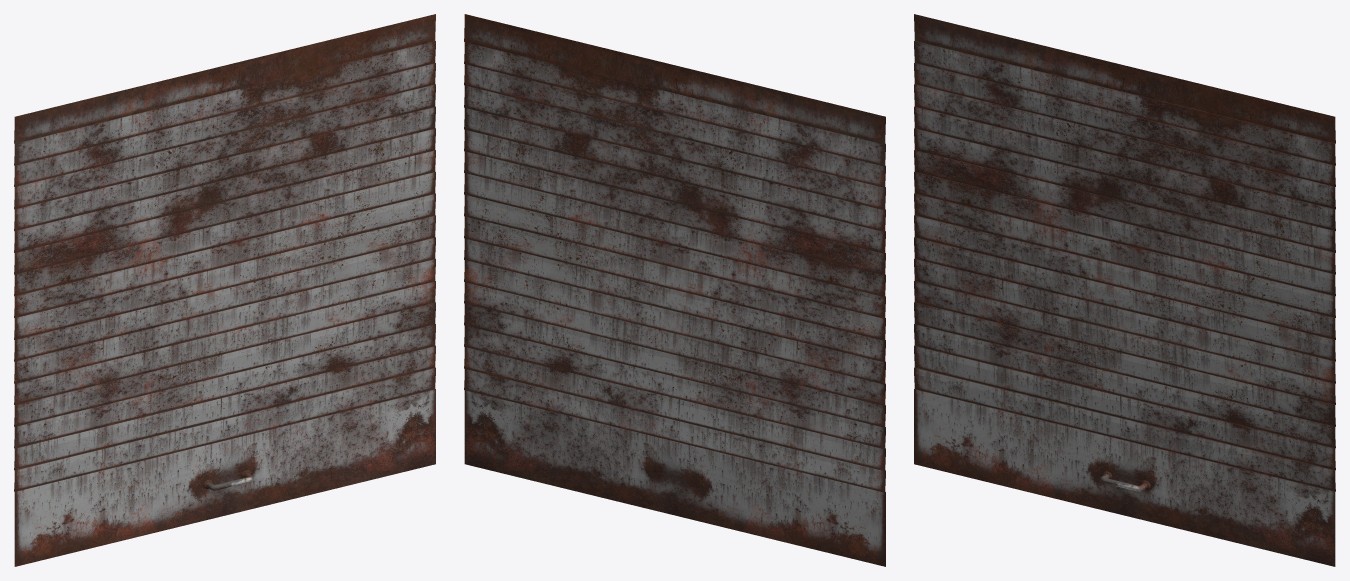
File: SM_RollerDoorLV4Part2_A.glb
The picture shows the model from 3 angles, left to right: view 1: azimuth 30°, elevation 25°; view 2: azimuth 150°, elevation 25°; view 3: azimuth 330°, elevation 25°; orthographic projection.
Parts seen in each view (by area): view 1: SM_RollerDoorLV4Part2_A; view 2: SM_RollerDoorLV4Part2_A; view 3: SM_RollerDoorLV4Part2_A.
Part boxes in pixels (left/top/right/bottom): SM_RollerDoorLV4Part2_A: left=14, top=14, right=435, bottom=566; SM_RollerDoorLV4Part2_A: left=464, top=14, right=885, bottom=566; SM_RollerDoorLV4Part2_A: left=914, top=14, right=1335, bottom=566.
Bounding box in the file's own units: 3.48 × 3.56 × 0.1052.
1 material, 1 textured.
